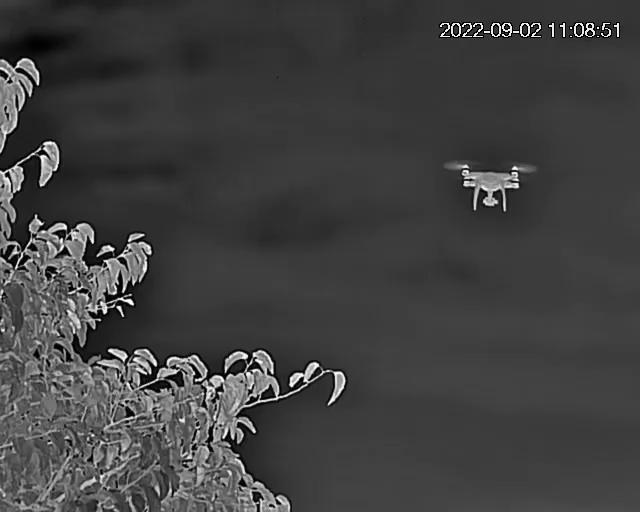DJI-Phantom: (447, 158, 542, 216)
